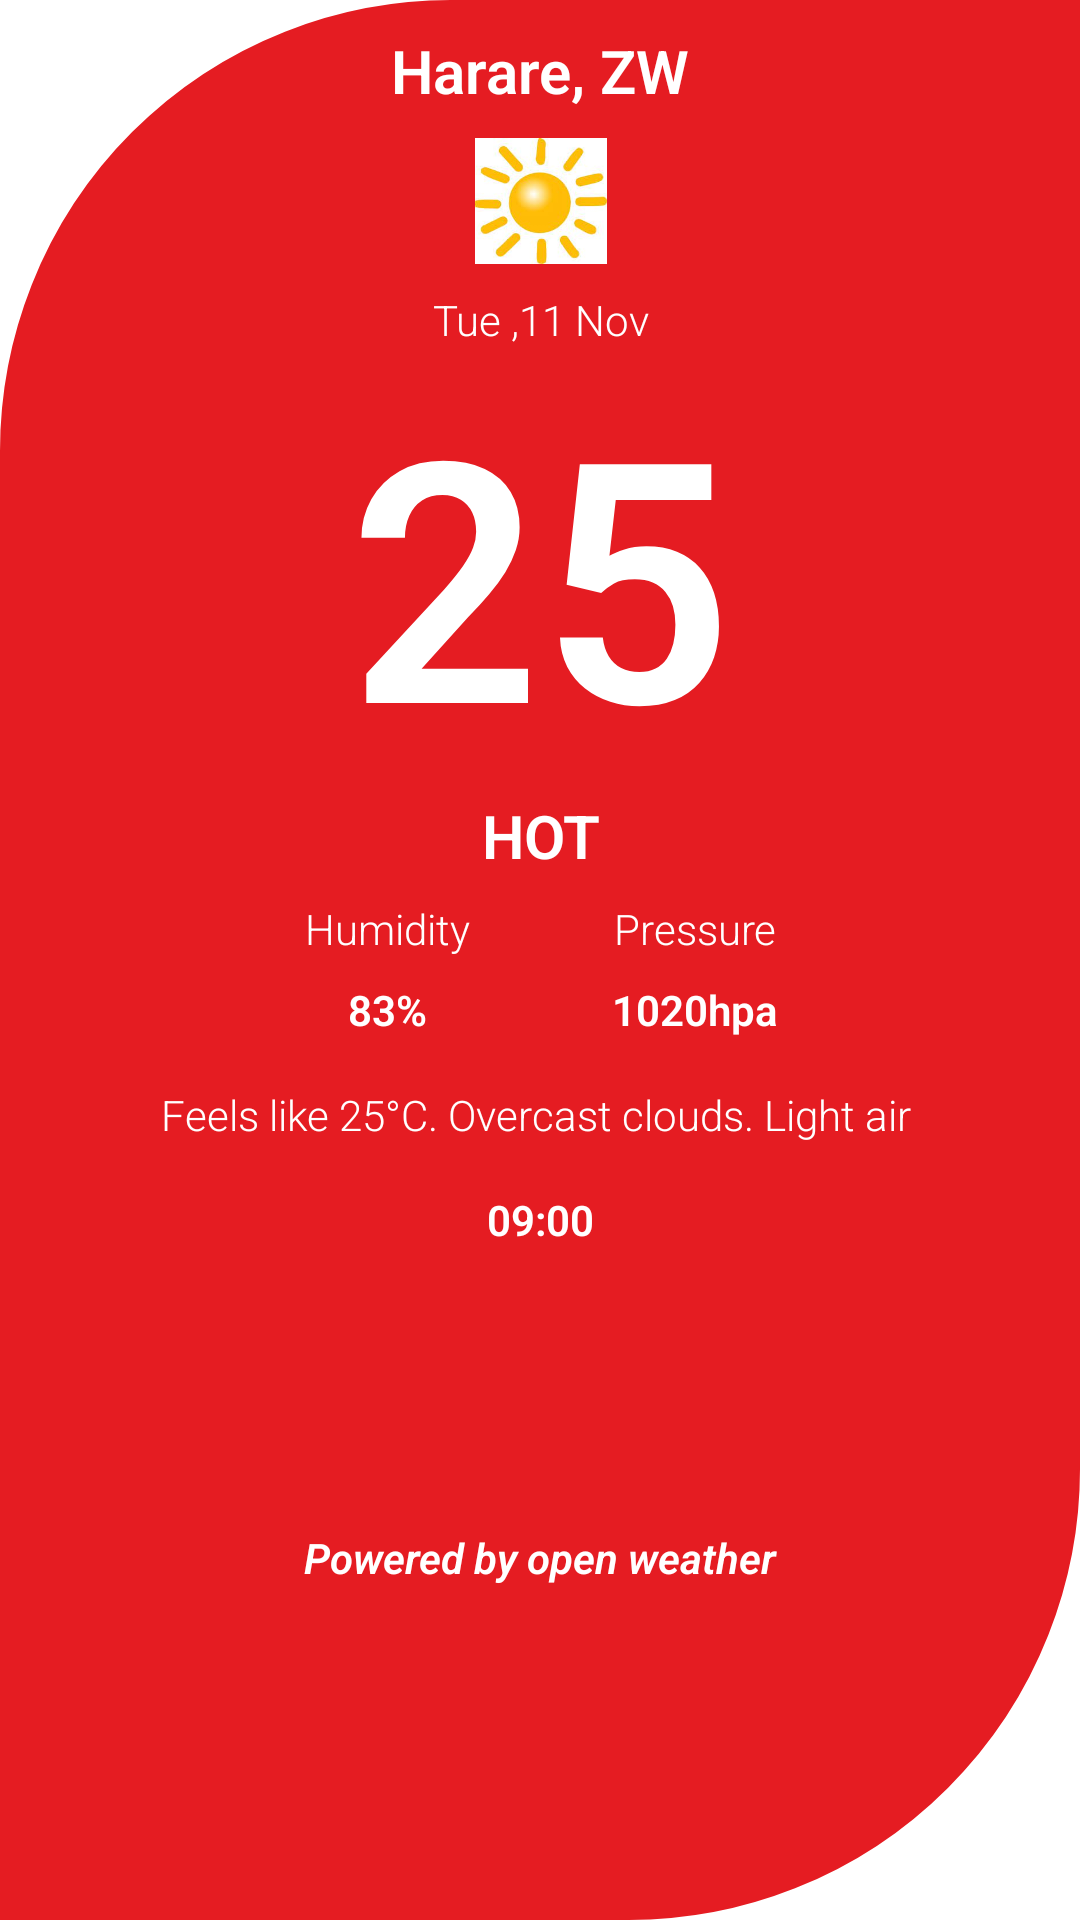

Screen size 1080×1920. Icon name, then its box in pixels as (x1, y1, x2, y2):
sunny: (475, 138, 607, 264)
